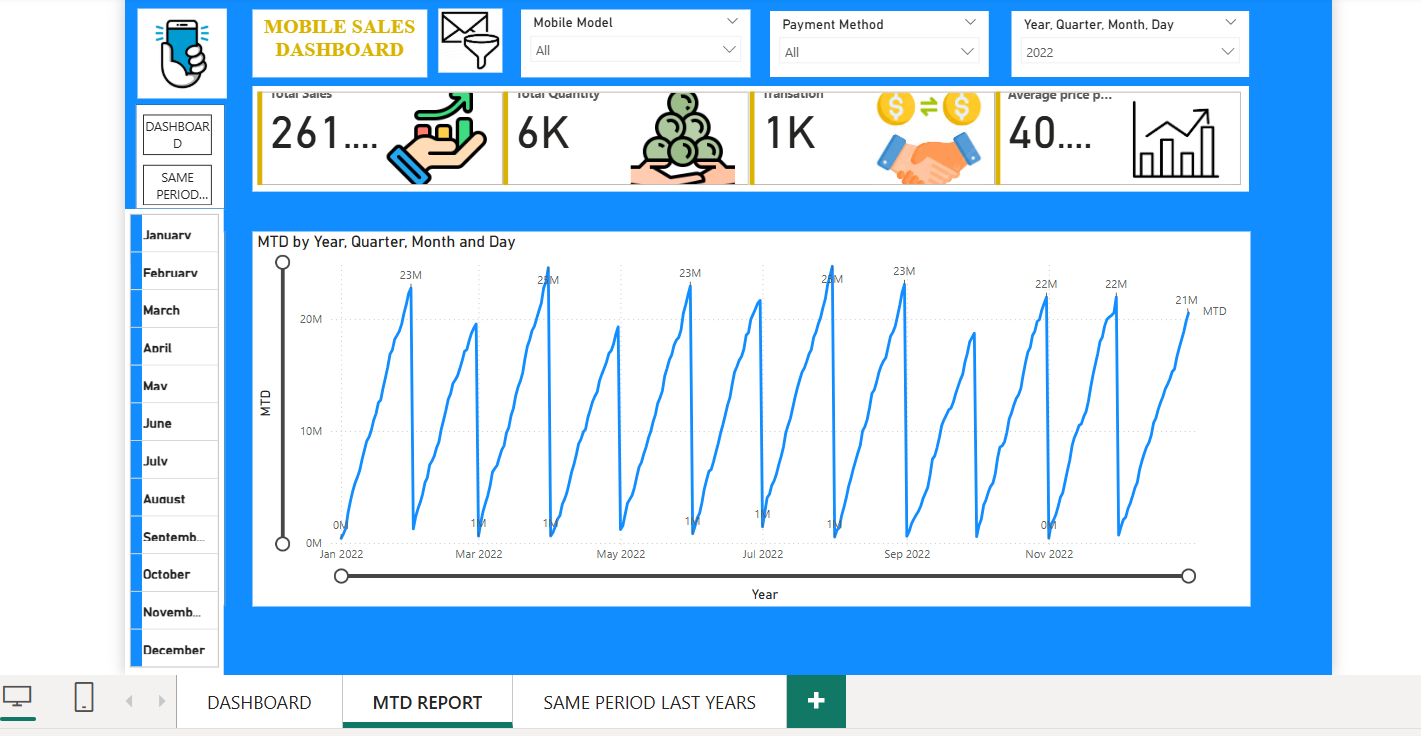

Layout of this report page (visuals, bound fields, positions):
{"tool":"powerbi","page":{"name":"MTD REPORT","canvas":[1280,720],"ordinal":1},"visuals":[{"type":"image","box":[8.3,0,105,121.7],"z":0},{"type":"shape","box":[11.7,115,95,111.7],"z":1000},{"type":"shape","box":[8.3,250,98.3,396.7],"z":2000},{"type":"advancedSlicerVisual","fields":{"Values":["custom calendar.Dates.Variation.Date Hierarchy.Month"]},"box":[0,225.9,105,494.7],"z":3000},{"type":"cardVisual","fields":{"Data":["Sum(Mobile Sales data.Total Sales)","Mobile Sales data.Total Quantity","Mobile Sales data.Transation","Mobile Sales data.Average price per unit"]},"box":[135,95,1056.7,111.7],"z":4000},{"type":"slicer","fields":{"Values":["Mobile Sales data.Mobile Model"]},"box":[420,15,243.3,71.7],"z":5000},{"type":"slicer","fields":{"Values":["Mobile Sales data.Payment Method"]},"box":[683.3,16.7,231.7,70],"z":6000},{"type":"slicer","fields":{"Values":["custom calendar.Dates.Variation.Date Hierarchy.Year","custom calendar.Dates.Variation.Date Hierarchy.Quarter","custom calendar.Dates.Variation.Date Hierarchy.Month","custom calendar.Dates.Variation.Date Hierarchy.Day"]},"box":[940,16.7,251.7,70],"z":7000},{"type":"image","box":[253.3,8.3,226.7,78.3],"z":8000},{"type":"textbox","box":[135,15,185,71.7],"z":9000},{"type":"lineChart","fields":{"Category":["custom calendar.Dates.Variation.Date Hierarchy.Year","custom calendar.Dates.Variation.Date Hierarchy.Quarter","custom calendar.Dates.Variation.Date Hierarchy.Month","custom calendar.Dates.Variation.Date Hierarchy.Day"],"Y":["Mobile Sales data.MTD"]},"box":[135,250,1057,397],"z":10000},{"type":"pageNavigator","box":[19.2,126.2,73.5,97.5],"z":11000}]}

Visuals, with their boxes on the page's 1280x720 design canvas (x1, y1, x2, y2). These are canvas units, not pixel positions in the 1421x736 screenshot, which may show the page scaled, cropped or inside an application window:
image: (8, 0, 113, 122)
shape: (12, 115, 107, 227)
shape: (8, 250, 107, 647)
advancedSlicerVisual - custom calendar.Dates.Variation.Date Hierarchy.Month: (0, 226, 105, 721)
cardVisual - Sum(Mobile Sales data.Total Sales) x Mobile Sales data.Total Quantity: (135, 95, 1192, 207)
slicer - Mobile Sales data.Mobile Model: (420, 15, 663, 87)
slicer - Mobile Sales data.Payment Method: (683, 17, 915, 87)
slicer - custom calendar.Dates.Variation.Date Hierarchy.Year x custom calendar.Dates.Variation.Date Hierarchy.Quarter: (940, 17, 1192, 87)
image: (253, 8, 480, 87)
textbox: (135, 15, 320, 87)
lineChart - custom calendar.Dates.Variation.Date Hierarchy.Year x custom calendar.Dates.Variation.Date Hierarchy.Quarter: (135, 250, 1192, 647)
pageNavigator: (19, 126, 93, 224)
